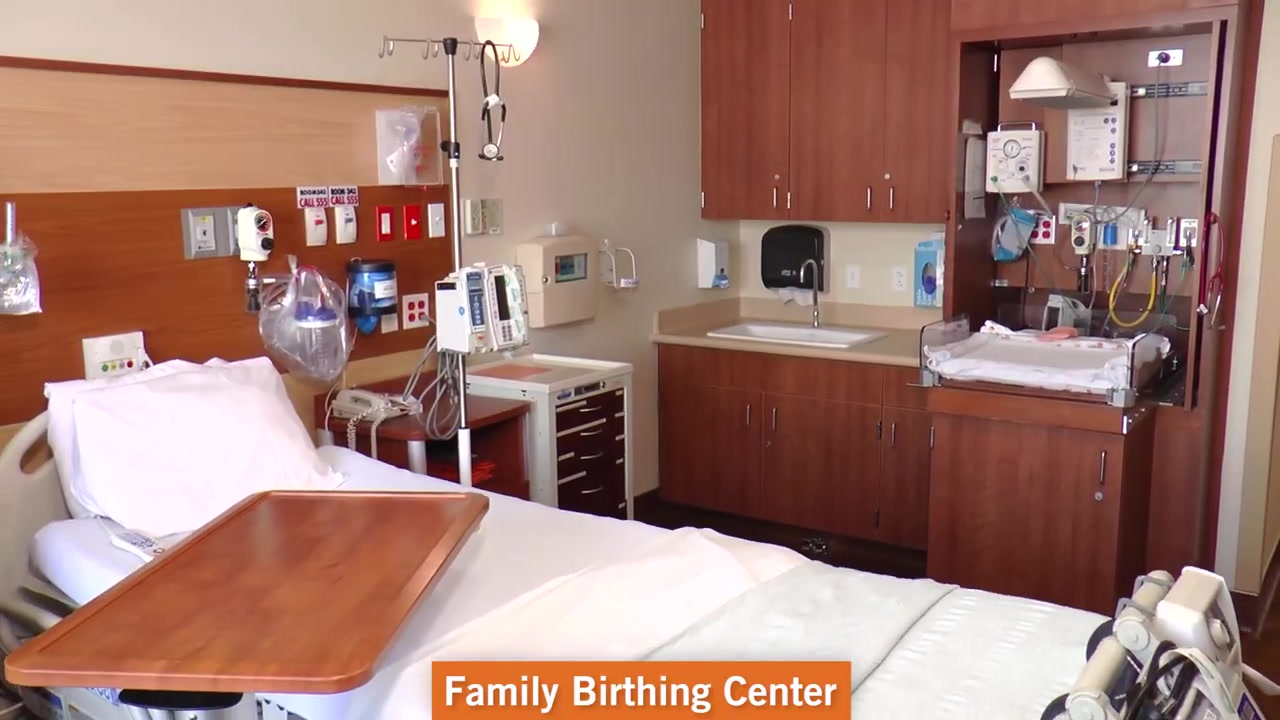bedside_table: (329, 384, 531, 499)
cabinet: (695, 1, 944, 222)
counter: (656, 312, 1167, 592)
countertop: (649, 318, 921, 366)
dispenser: (760, 224, 830, 307), (907, 244, 944, 308), (698, 238, 730, 290)
faucet: (800, 259, 821, 327)
foot_board: (1045, 559, 1180, 720)
handle: (1098, 450, 1108, 484), (865, 185, 873, 211), (579, 429, 602, 438), (580, 452, 603, 461), (744, 402, 752, 426), (888, 186, 896, 210), (581, 486, 602, 495), (579, 405, 602, 413), (771, 406, 778, 431), (890, 422, 897, 447), (771, 186, 778, 210)
hospital_bed: (1, 357, 1280, 720)
infusion_pump: (434, 264, 530, 351)
iv_pole: (377, 35, 521, 487)
light_switch: (429, 202, 448, 242), (403, 204, 421, 242)
medical_drawer: (456, 354, 634, 520)
medical_waste_container: (518, 238, 595, 323)
overbed_table: (5, 489, 491, 720)
panda_baby_warmer: (920, 38, 1178, 404)
sequential_compression: (1116, 563, 1258, 718)
sink: (706, 325, 889, 349)
telephone: (331, 388, 423, 461)
